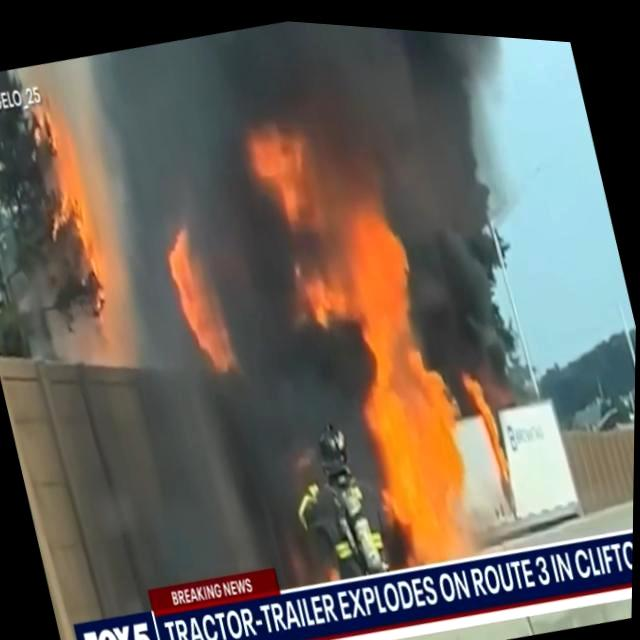fire: (232, 77, 448, 383), (350, 357, 482, 567), (3, 98, 125, 314), (156, 214, 240, 370)
